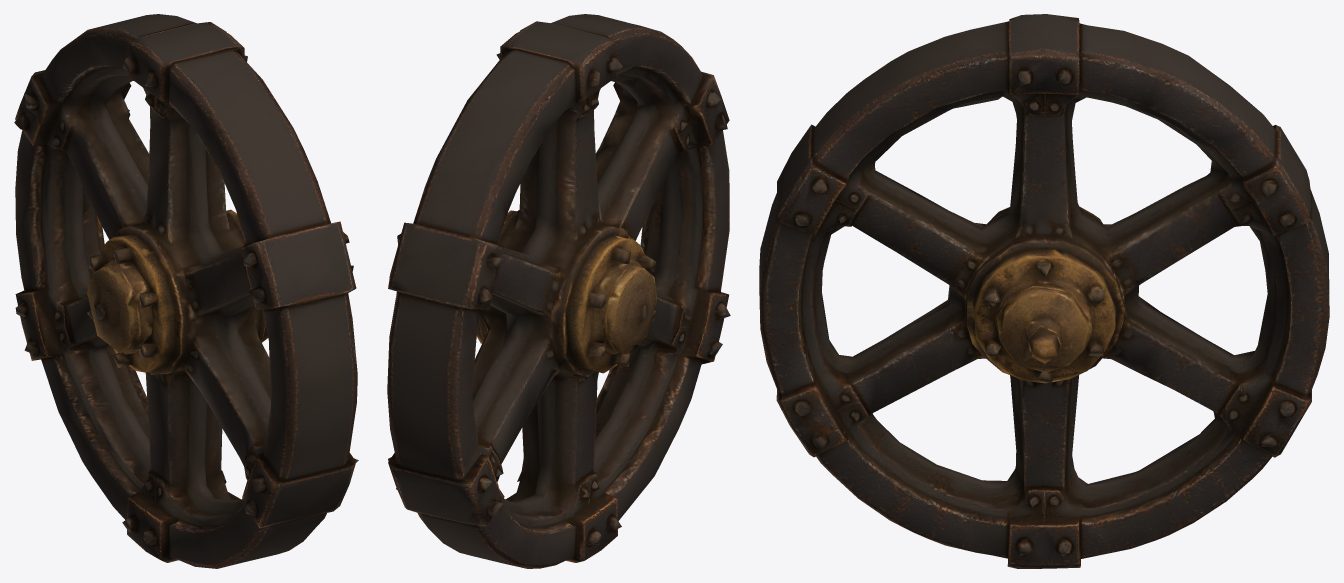
Rendered from raw_flywheel.glb.
The picture shows the model from 3 angles, left to right: view 1: azimuth 30°, elevation 25°; view 2: azimuth 150°, elevation 25°; view 3: azimuth 270°, elevation 25°; orthographic projection. The views are drawn at different scales.
Parts seen in each view (by area): view 1: tripo_node_a6cde754-794f-41bd-9445-77eea0393c3a; view 2: tripo_node_a6cde754-794f-41bd-9445-77eea0393c3a; view 3: tripo_node_a6cde754-794f-41bd-9445-77eea0393c3a.
Part boxes in pixels (box(x1,y1,x2,y2)): tripo_node_a6cde754-794f-41bd-9445-77eea0393c3a: box(14, 14, 358, 568); tripo_node_a6cde754-794f-41bd-9445-77eea0393c3a: box(387, 14, 730, 568); tripo_node_a6cde754-794f-41bd-9445-77eea0393c3a: box(759, 14, 1329, 568).
Bounding box in the file's own units: 0.4447 × 1 × 0.9956.
1 material, 1 textured.
